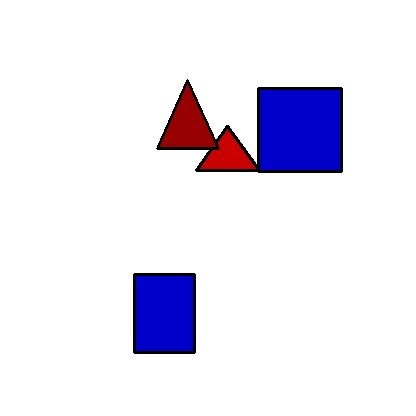rectangle: (258, 88, 341, 171), (134, 274, 194, 352)
triangle: (157, 80, 218, 148), (196, 126, 259, 170)
